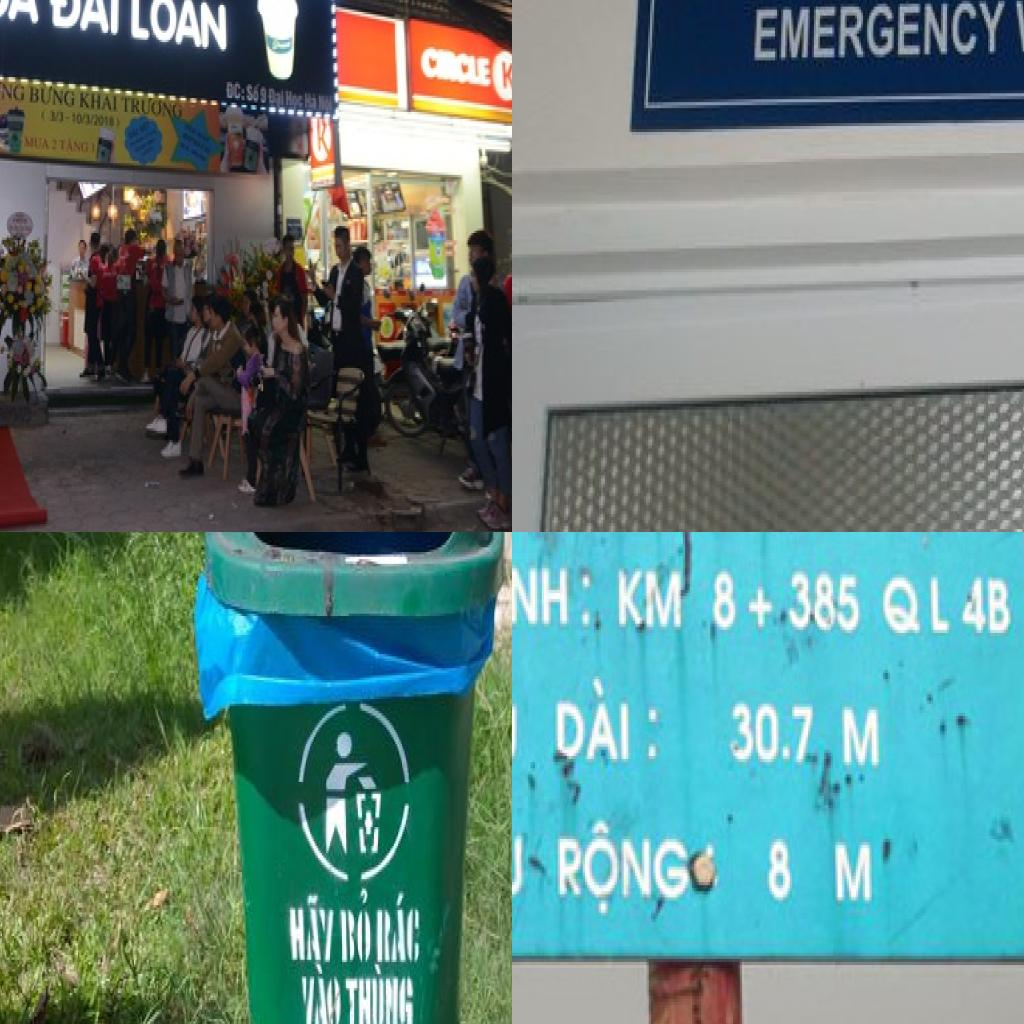text: (553, 814, 726, 928), (746, 0, 1006, 72), (549, 673, 669, 771), (512, 540, 598, 636), (726, 692, 822, 774), (881, 562, 958, 645), (614, 556, 690, 636), (785, 562, 865, 636), (129, 0, 229, 56), (833, 694, 888, 778), (284, 888, 340, 966), (960, 568, 1020, 639), (374, 886, 425, 964), (760, 827, 799, 916), (339, 886, 374, 969), (47, 0, 120, 37), (299, 966, 344, 1024), (710, 562, 742, 636), (746, 575, 778, 636), (120, 94, 184, 122), (29, 79, 77, 112), (458, 54, 492, 89), (78, 89, 120, 114), (421, 44, 440, 82), (0, 79, 27, 104), (58, 138, 90, 158), (72, 112, 105, 128), (23, 135, 52, 152), (226, 79, 246, 103), (318, 124, 332, 158), (285, 89, 305, 112), (246, 80, 262, 108), (40, 110, 66, 126), (268, 86, 285, 110), (502, 60, 512, 100), (305, 91, 319, 114), (319, 94, 334, 114), (260, 86, 268, 108), (50, 137, 60, 154), (91, 140, 97, 156)
